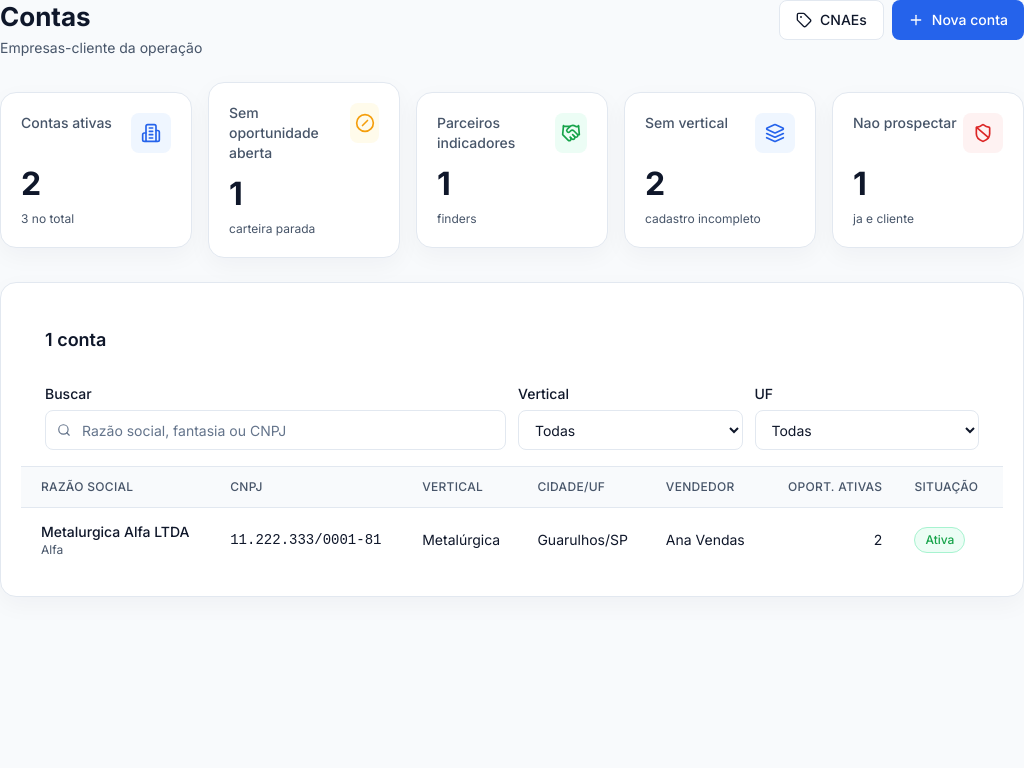
Contas — formulário › aplica máscara enquanto digita o CNPJ
Expected: the text "Metalurgica Alfa LTDA" is shown, [41, 522, 198, 542]
Click the button "Nova conta" at (958, 20), box [892, 0, 1023, 40]
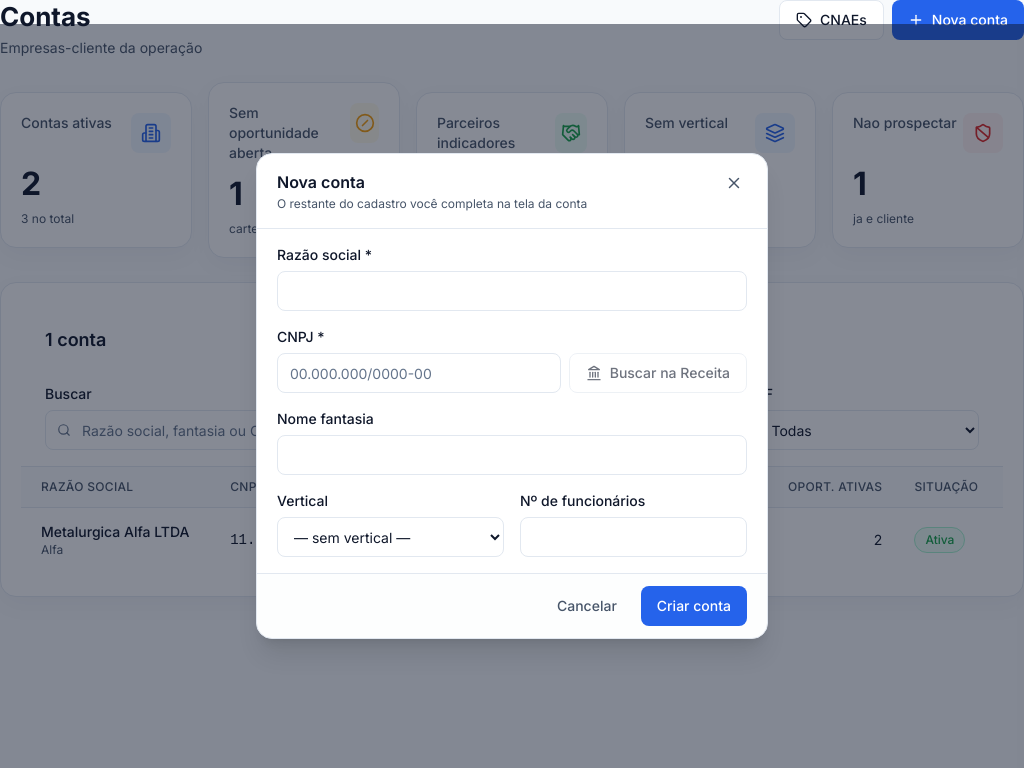
Type "11222333000181" into the field labelled "CNPJ *" at (419, 373), box [277, 353, 561, 393]
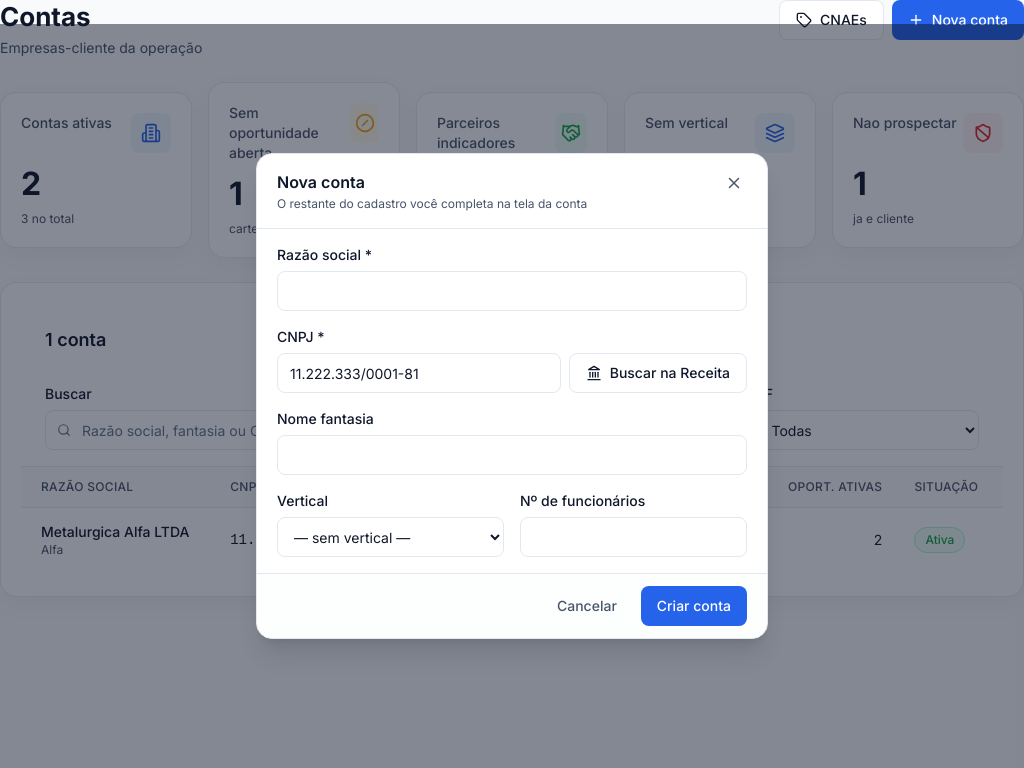
Expected: the field labelled "CNPJ *" holds "11.222.333/0001-81", [277, 353, 561, 393]
